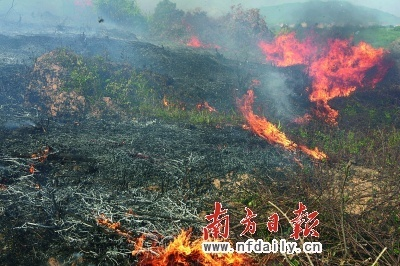fire: (256, 33, 387, 121), (236, 87, 328, 165), (183, 34, 222, 49)
